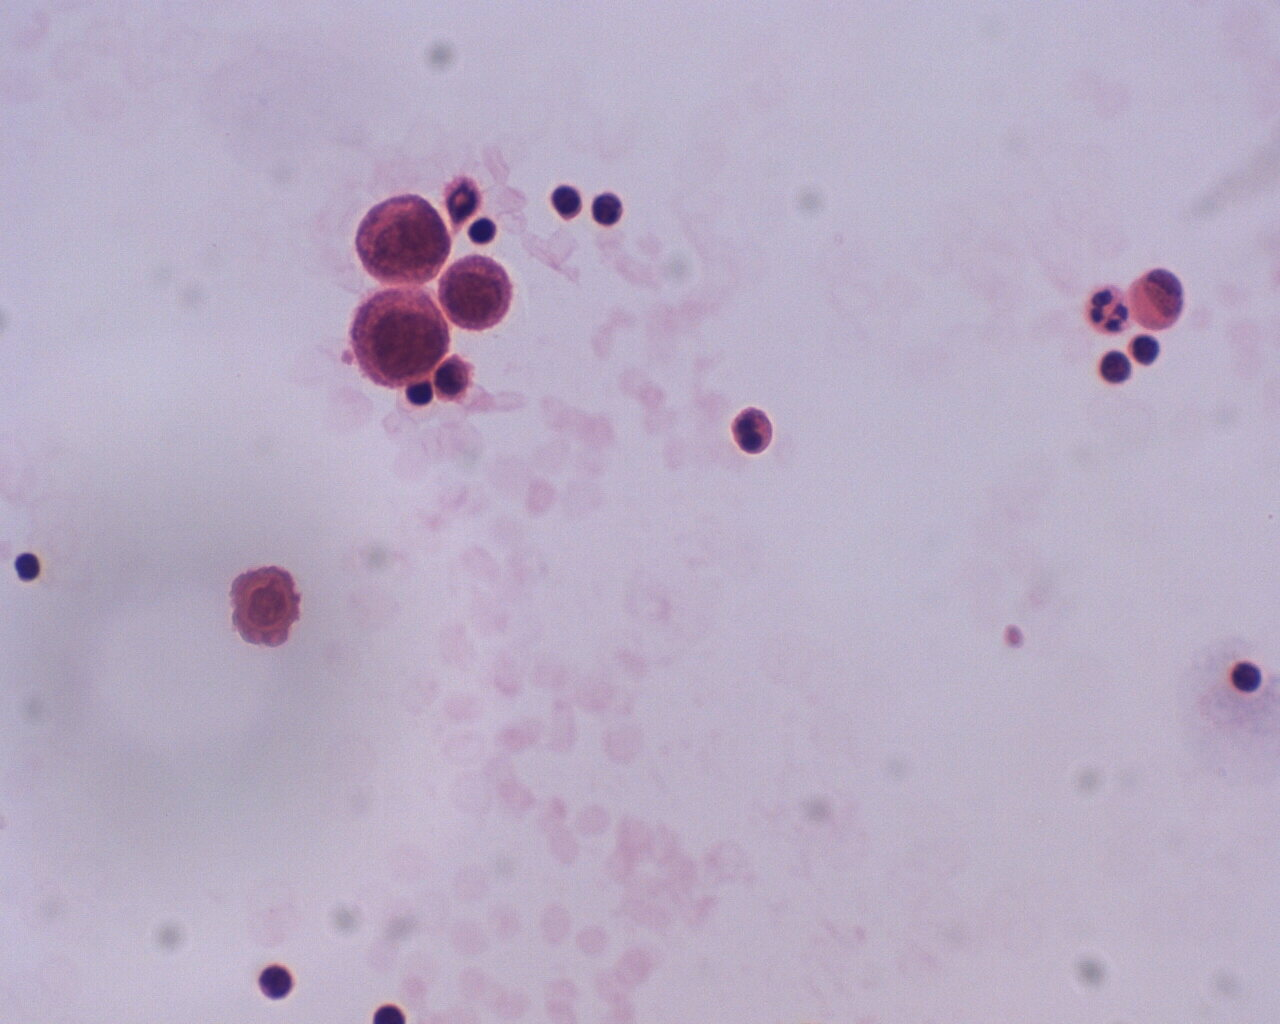ab: (341, 283, 452, 385), (351, 188, 451, 288), (439, 252, 516, 333)
lymph: (1223, 654, 1269, 701), (1096, 340, 1138, 390), (252, 961, 304, 1001), (588, 191, 636, 231), (545, 182, 585, 226), (11, 546, 48, 583)
neutro: (1080, 280, 1137, 338), (729, 404, 775, 459)
